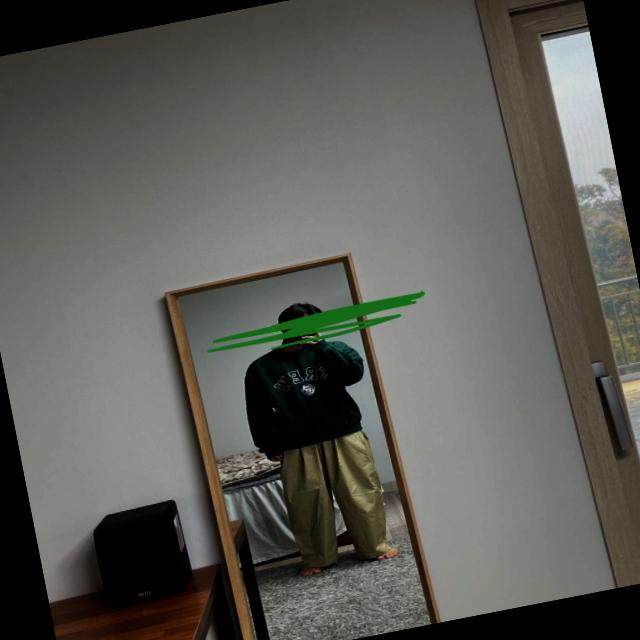cottonpants: (270, 425, 398, 575)
mtm: (236, 327, 377, 458)
